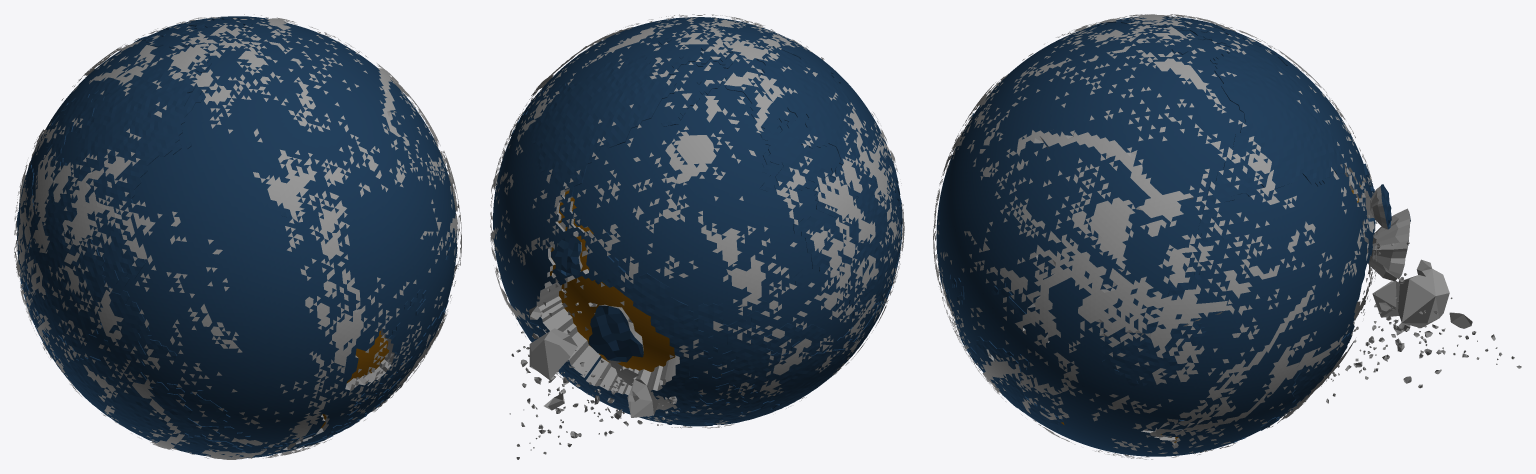
Rendered from EarthTitle.FBX.
3 renders of one model, left to right at view 1: azimuth 30°, elevation 25°; view 2: azimuth 150°, elevation 25°; view 3: azimuth 270°, elevation 25°, orthographic. The views are drawn at different scales.
Parts seen in each view (by area): view 1: NewEarth, Clouds; view 2: NewEarth, Clouds; view 3: NewEarth, Clouds.
Boxes of the visible parts, x1,y1,x2,y2 form: NewEarth: [16, 16, 457, 458]; Clouds: [14, 14, 461, 459]; NewEarth: [493, 17, 902, 459]; Clouds: [490, 14, 904, 428]; NewEarth: [936, 16, 1521, 456]; Clouds: [933, 14, 1378, 459].
Bounding box in the file's own units: 0.1361 × 0.1357 × 0.1791.
